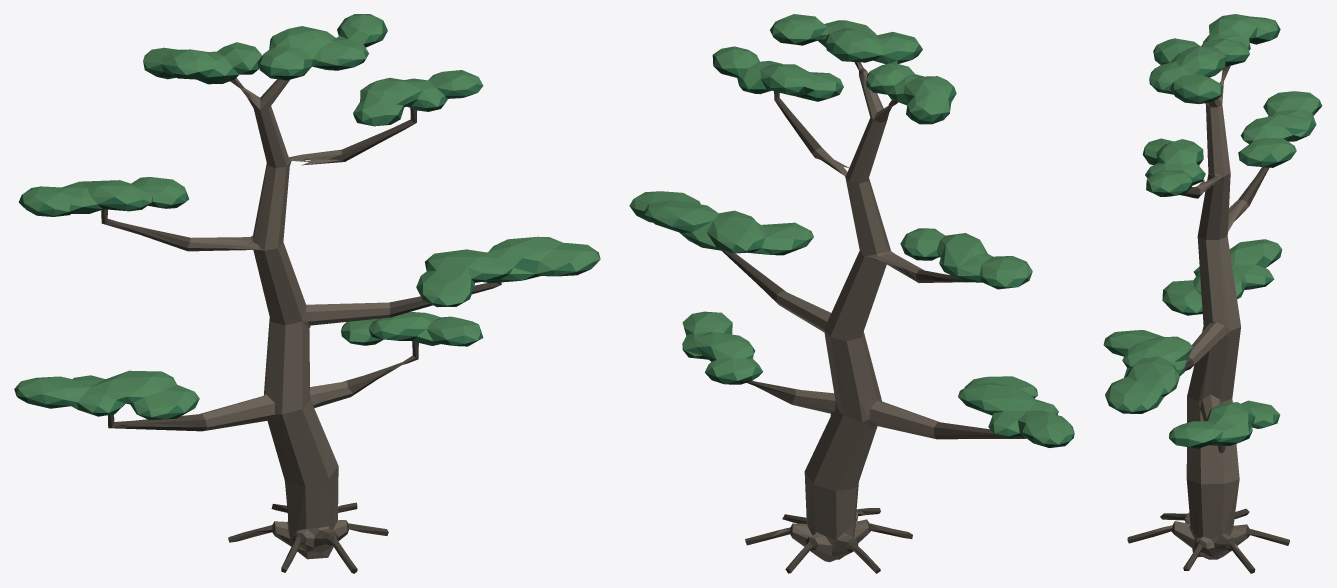
File: ancient-pine-2180-lod1.glb
The picture shows the model from 3 angles, left to right: view 1: azimuth 30°, elevation 25°; view 2: azimuth 150°, elevation 25°; view 3: azimuth 270°, elevation 25°; orthographic projection. The views are drawn at different scales.
Parts seen in each view (by area): view 1: n12.005, n8.005, n11.005, n9.005, n10.005; view 2: n12.005, n8.005, n11.005, n9.005, n10.005; view 3: n12.005, n8.005, n11.005, n9.005, n10.005.
Part boxes in pixels (x1,y1,x2,y2): n12.005: (14,14,600,416); n8.005: (187,79,390,559); n11.005: (14,21,600,419); n9.005: (101,78,501,573); n10.005: (16,40,590,420); n12.005: (629,14,1074,444); n8.005: (772,62,939,562); n11.005: (629,22,1074,444); n9.005: (722,62,1026,573); n10.005: (637,36,1074,447); n12.005: (1103,14,1319,442); n8.005: (1146,68,1248,559); n11.005: (1104,21,1322,446); n9.005: (1127,66,1289,573); n10.005: (1110,37,1321,448).
Size of the model in its own units: 5.47 by 5.42 by 2.16.
